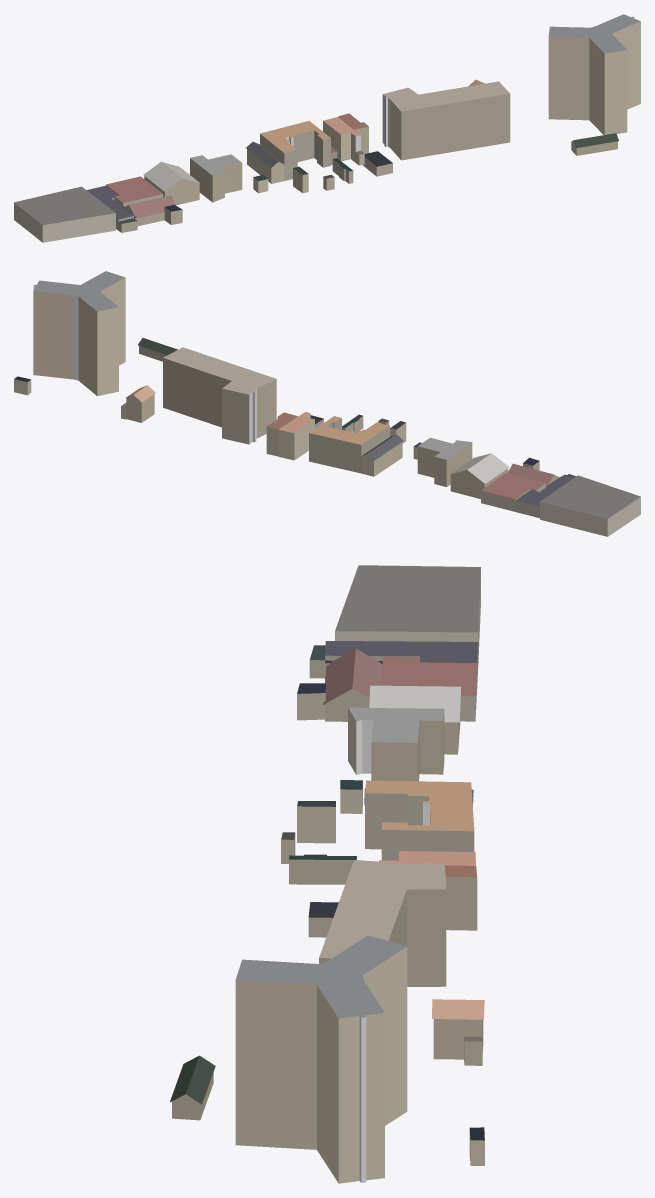
3 views of the same model, one above another, from view 1: azimuth 30°, elevation 25°; view 2: azimuth 150°, elevation 25°; view 3: azimuth 270°, elevation 25° (orthographic). The views are drawn at different scales.
Parts seen in each view (by area): view 1: tuile; view 2: tuile; view 3: tuile.
Boxes of the visible parts, <box> form: tuile: <box>14,14,640,242</box>; tuile: <box>14,271,640,536</box>; tuile: <box>170,565,484,1183</box>.
Bounding box in the file's own units: 250 × 33.96 × 57.47.
